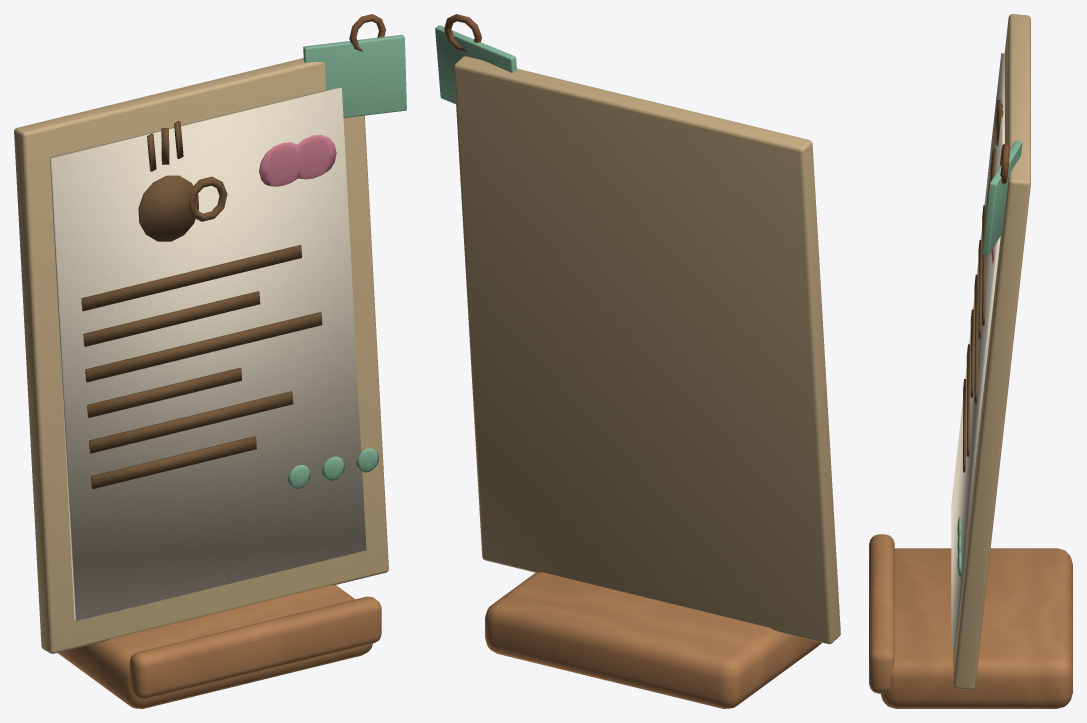
File: tm-menu-card.glb
The picture shows the model from 3 angles, left to right: view 1: azimuth 30°, elevation 25°; view 2: azimuth 150°, elevation 25°; view 3: azimuth 270°, elevation 25°; orthographic projection. The views are drawn at different scales.
Visible parts, largest first — view 1: tm-menu-card; view 2: tm-menu-card; view 3: tm-menu-card.
Part boxes in pixels (<box>): tm-menu-card: <box>14,14,406,708</box>; tm-menu-card: <box>435,14,840,708</box>; tm-menu-card: <box>869,14,1072,708</box>.
Bounding box in the file's own units: 0.1365 × 0.204 × 0.0635.
Materials: 1 (1 with a texture image).
